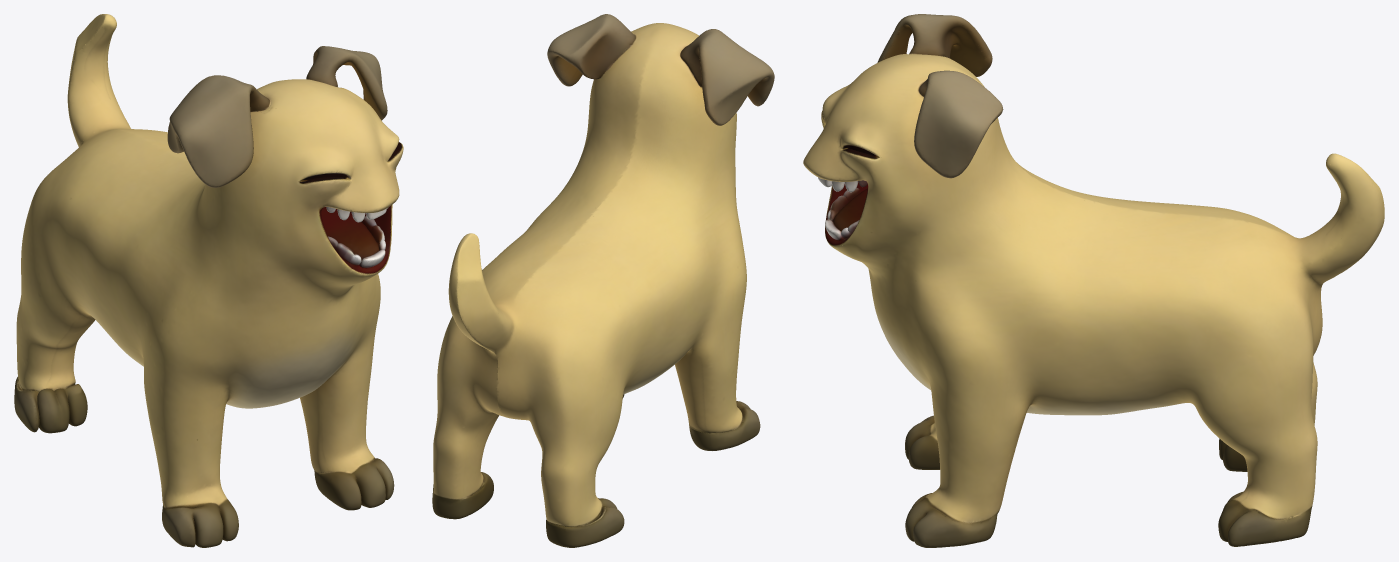
The model's file is naigou.glb.
3 views of the same model, side by side, from view 1: azimuth 30°, elevation 25°; view 2: azimuth 150°, elevation 25°; view 3: azimuth 270°, elevation 25° (orthographic). The views are drawn at different scales.
Parts seen in each view (by area): view 1: naigou_Rodin_Complete; view 2: naigou_Rodin_Complete; view 3: naigou_Rodin_Complete.
Boxes of the visible parts, x1,y1,x2,y2 form: naigou_Rodin_Complete: (14, 14, 403, 547); naigou_Rodin_Complete: (432, 14, 774, 547); naigou_Rodin_Complete: (803, 14, 1384, 547).
Size of the model in its own units: 0.8647 by 1.65 by 1.9.
1 material, 1 textured.
